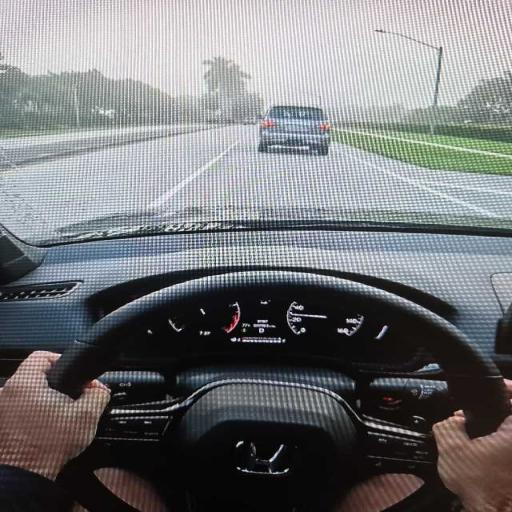car: (259, 106, 330, 155), (242, 118, 255, 124)
lane: (0, 126, 511, 240), (0, 127, 238, 240)
person: (0, 352, 109, 511)
